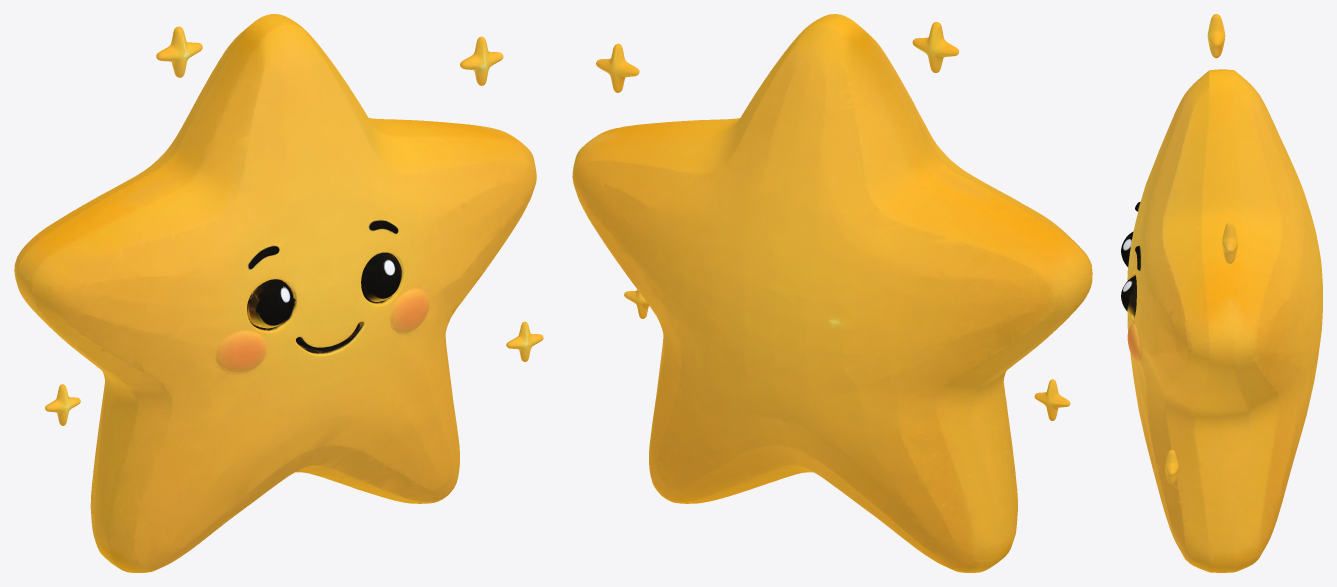
Rendered from estrela.glb.
The picture shows the model from 3 angles, left to right: view 1: azimuth 30°, elevation 25°; view 2: azimuth 150°, elevation 25°; view 3: azimuth 270°, elevation 25°; orthographic projection. The views are drawn at different scales.
Size of the model in its own units: 1.88 by 1.9 by 0.7645.
Materials: 1 (1 with a texture image).
